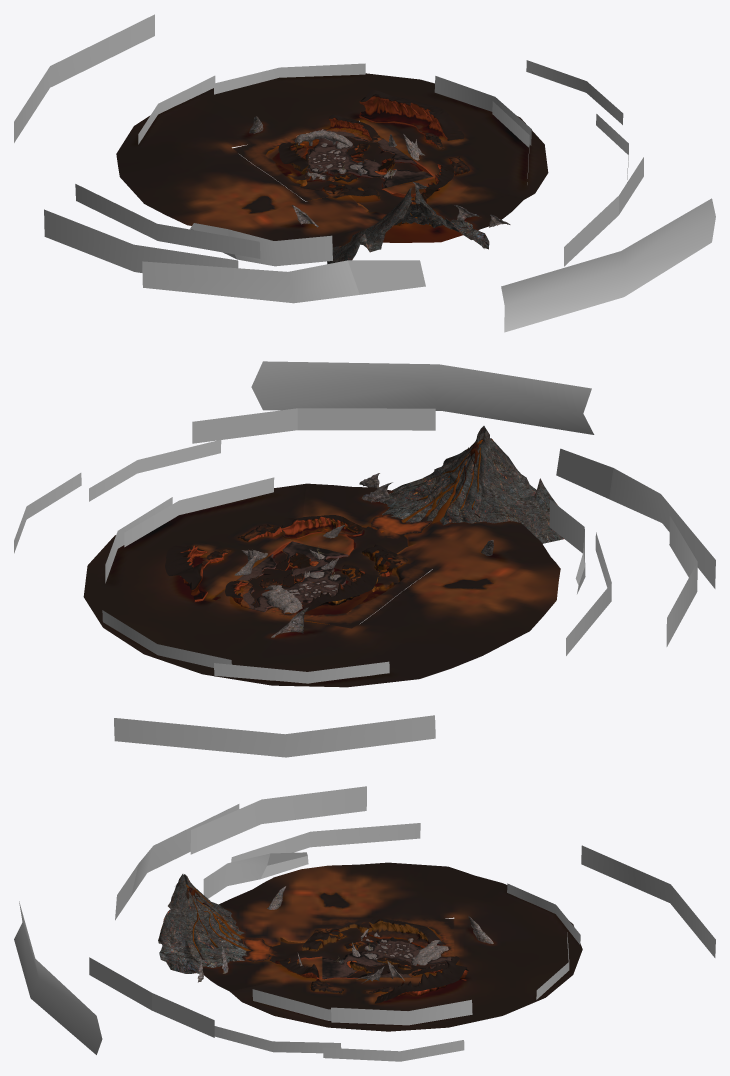
Rendered from fbx_fiel_0120.fbx.
3 views of the same model, one above another, from view 1: azimuth 30°, elevation 25°; view 2: azimuth 150°, elevation 25°; view 3: azimuth 270°, elevation 25° (orthographic). The views are drawn at different scales.
Visible parts, largest first — view 1: obj_fiel_0120_ground, obj_fiel_0120_enkei5, obj_fiel_0120_enkei6, obj_fiel_0120_enkei9, obj_fiel_0120_enkei7, obj_fiel_0120_enkei10, obj_fiel_0120_mountain, obj_fiel_0120_lava, obj_fiel_0120_cliff4, obj_fiel_0120_ground4, obj_fiel_0120_enkei8, obj_fiel_0120_enkei11 (+11 smaller); view 2: obj_fiel_0120_ground, obj_fiel_0120_enkei5, obj_fiel_0120_mountain, obj_fiel_0120_enkei10, obj_fiel_0120_enkei2, obj_fiel_0120_enkei6, obj_fiel_0120_lava, obj_fiel_0120_ground4, obj_fiel_0120_enkei1, obj_fiel_0120_ground1, obj_fiel_0120_enkei12, obj_fiel_0120_enkei3 (+12 smaller); view 3: obj_fiel_0120_ground, obj_fiel_0120_mountain, obj_fiel_0120_enkei9, obj_fiel_0120_enkei5, obj_fiel_0120_lava, obj_fiel_0120_enkei10, obj_fiel_0120_enkei7, obj_fiel_0120_enkei2, obj_fiel_0120_enkei8, obj_fiel_0120_enkei13, obj_fiel_0120_enkei6, obj_fiel_0120_ground4 (+11 smaller).
Boxes of the visible parts, box(x1,y1,x2,y2) form: obj_fiel_0120_ground: box(116, 73, 548, 247); obj_fiel_0120_enkei5: box(501, 198, 715, 332); obj_fiel_0120_enkei6: box(142, 260, 425, 303); obj_fiel_0120_enkei9: box(44, 209, 238, 272); obj_fiel_0120_enkei7: box(75, 184, 260, 258); obj_fiel_0120_enkei10: box(14, 14, 154, 142); obj_fiel_0120_mountain: box(327, 186, 489, 264); obj_fiel_0120_lava: box(266, 121, 436, 225); obj_fiel_0120_cliff4: box(359, 89, 464, 140); obj_fiel_0120_ground4: box(306, 129, 432, 188); obj_fiel_0120_enkei8: box(190, 223, 332, 266); obj_fiel_0120_enkei11: box(214, 63, 365, 94); obj_fiel_0120_ground: box(83, 483, 560, 687); obj_fiel_0120_enkei5: box(251, 361, 594, 434); obj_fiel_0120_mountain: box(382, 426, 563, 543); obj_fiel_0120_enkei10: box(114, 715, 435, 757); obj_fiel_0120_enkei2: box(192, 408, 435, 443); obj_fiel_0120_enkei6: box(556, 448, 715, 588); obj_fiel_0120_lava: box(211, 513, 432, 624); obj_fiel_0120_ground4: box(237, 541, 348, 612); obj_fiel_0120_enkei1: box(124, 477, 274, 547); obj_fiel_0120_ground1: box(265, 563, 432, 628); obj_fiel_0120_enkei12: box(214, 661, 389, 683); obj_fiel_0120_enkei3: box(89, 439, 221, 501); obj_fiel_0120_ground: box(202, 862, 582, 1031); obj_fiel_0120_mountain: box(158, 874, 248, 973); obj_fiel_0120_enkei9: box(190, 786, 366, 854); obj_fiel_0120_enkei5: box(14, 901, 102, 1054); obj_fiel_0120_lava: box(241, 927, 452, 979); obj_fiel_0120_enkei10: box(581, 845, 715, 957); obj_fiel_0120_enkei7: box(231, 823, 420, 862); obj_fiel_0120_enkei2: box(89, 957, 214, 1037); obj_fiel_0120_enkei8: box(203, 852, 308, 898); obj_fiel_0120_enkei13: box(331, 999, 472, 1025); obj_fiel_0120_enkei6: box(115, 804, 239, 920); obj_fiel_0120_ground4: box(322, 937, 454, 979).
Bounding box in the file's own units: 77805 × 10891 × 94177.
